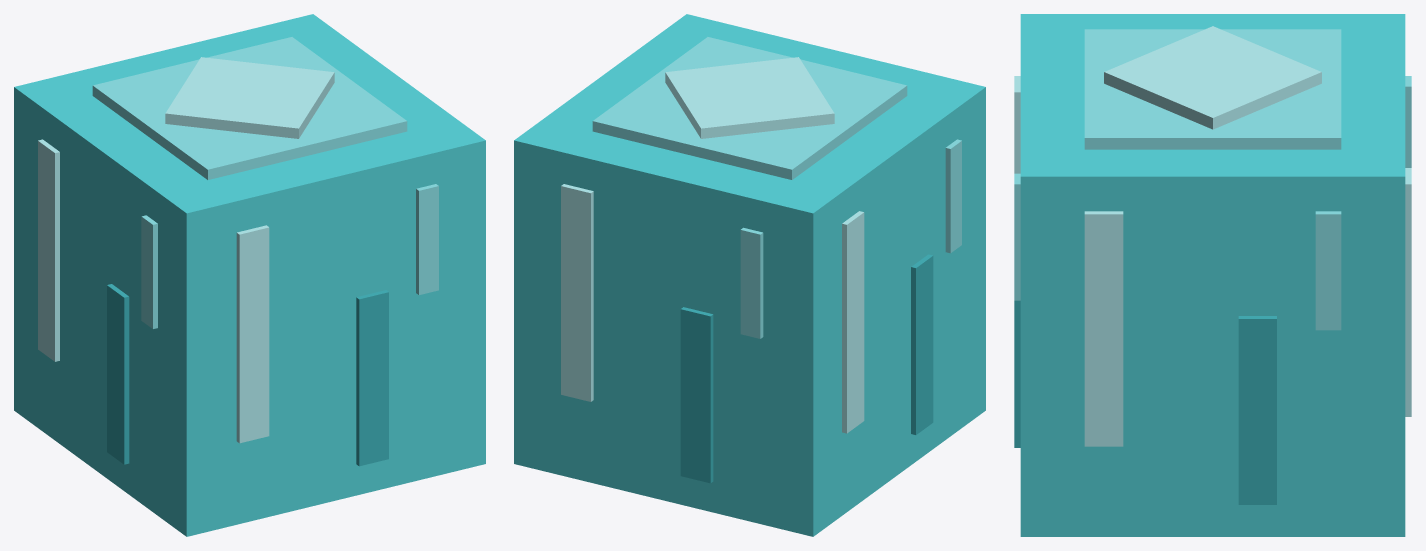
Rendered from crystalblock.glb.
3 renders of one model, left to right at view 1: azimuth 30°, elevation 25°; view 2: azimuth 150°, elevation 25°; view 3: azimuth 270°, elevation 25°, orthographic. The views are drawn at different scales.
Visible parts, largest first — view 1: body.023; view 2: body.023; view 3: body.023.
Part boxes in pixels (x1,y1,x2,y2): body.023: (14,14,485,536); body.023: (514,14,985,536); body.023: (1014,14,1411,536).
Size of the model in its own units: 0.9688 by 1.03 by 0.9688.
